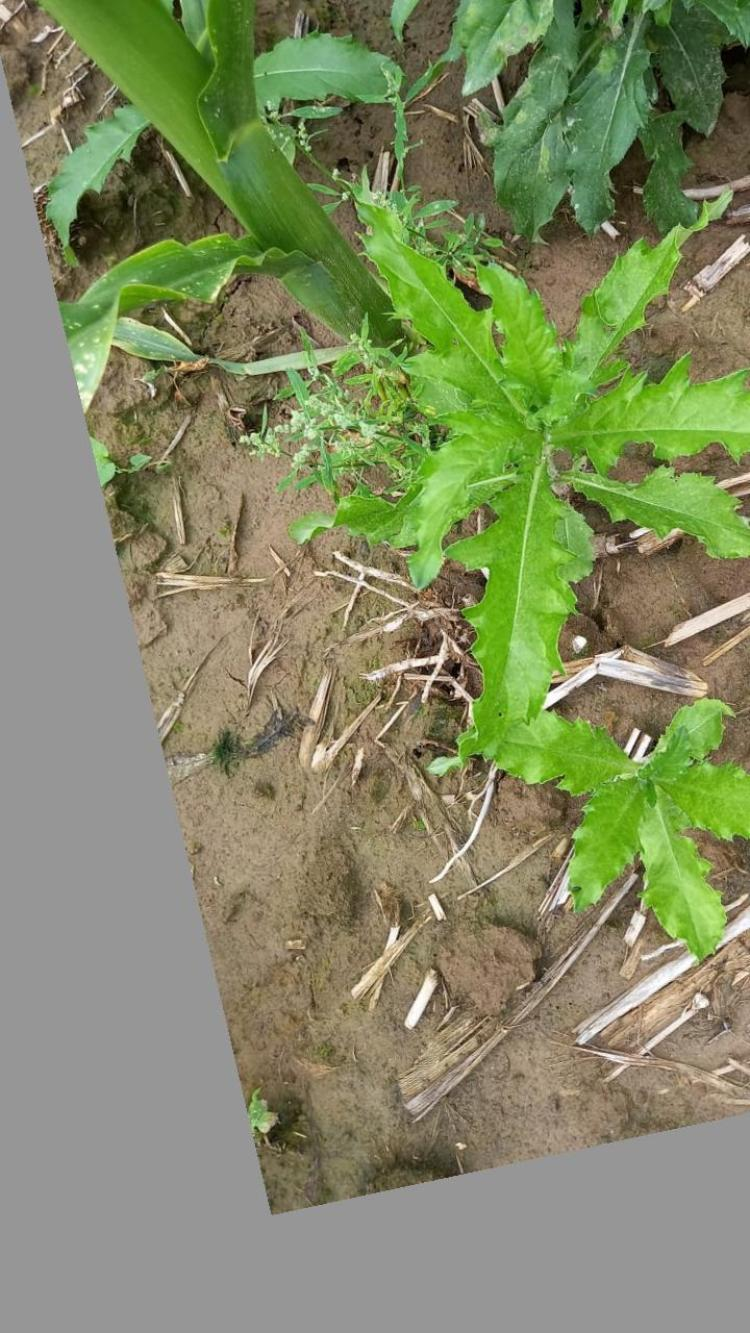osot: (287, 187, 750, 760), (458, 688, 750, 964)
